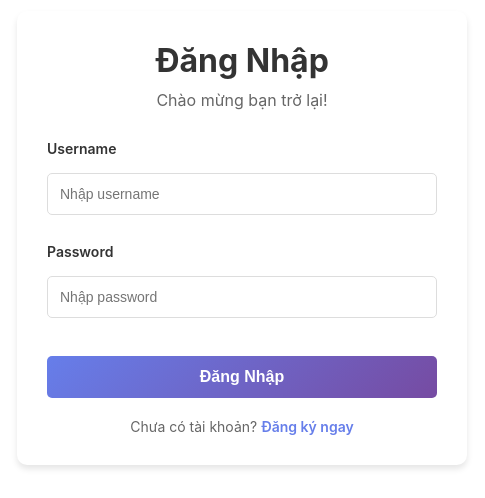
Test case: Login E2E Tests › b) Nên hiển thị lỗi validation với password không hợp lệ
Type "testuser" into the field with test id "username-input" at x=242, y=194, box [47,173,437,215]
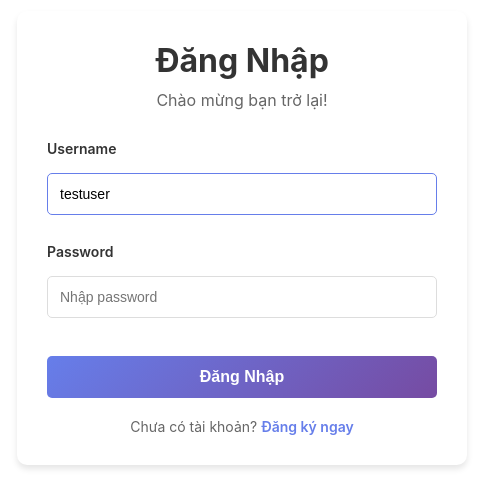
Type "123" into the password field with test id "password-input" at x=242, y=297, box [47,276,437,318]
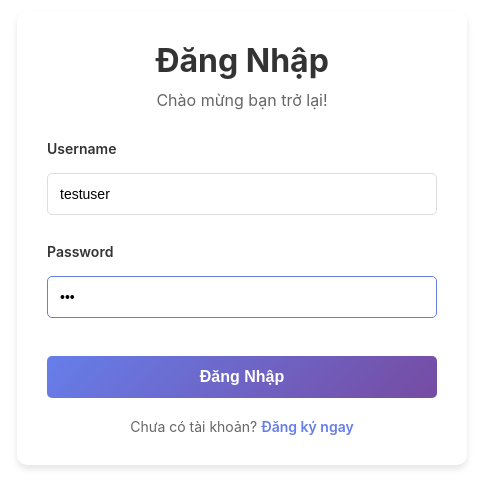
Click the button with test id "login-button" at x=242, y=377, box [47,356,437,398]
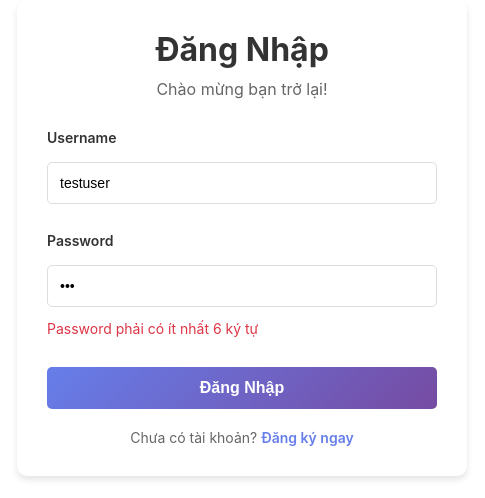
Now the text "Password phải có ít nhất 6 ký tự" is shown, box [47,320,258,337]
